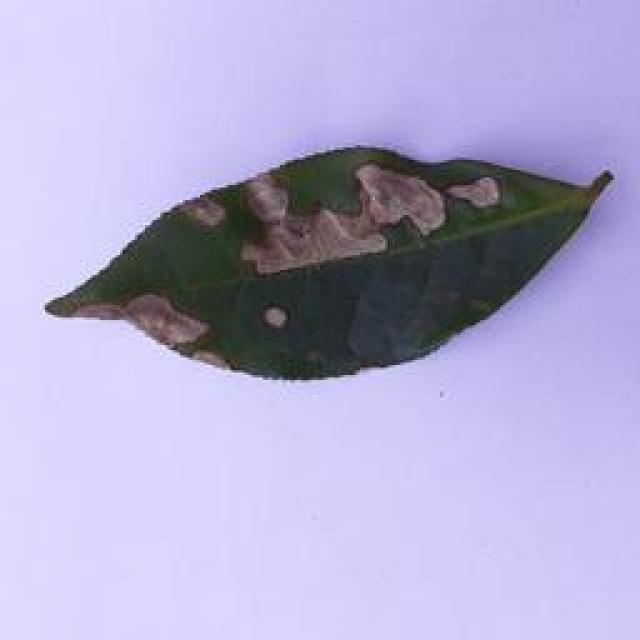Gray Blight: (44, 146, 619, 388)
